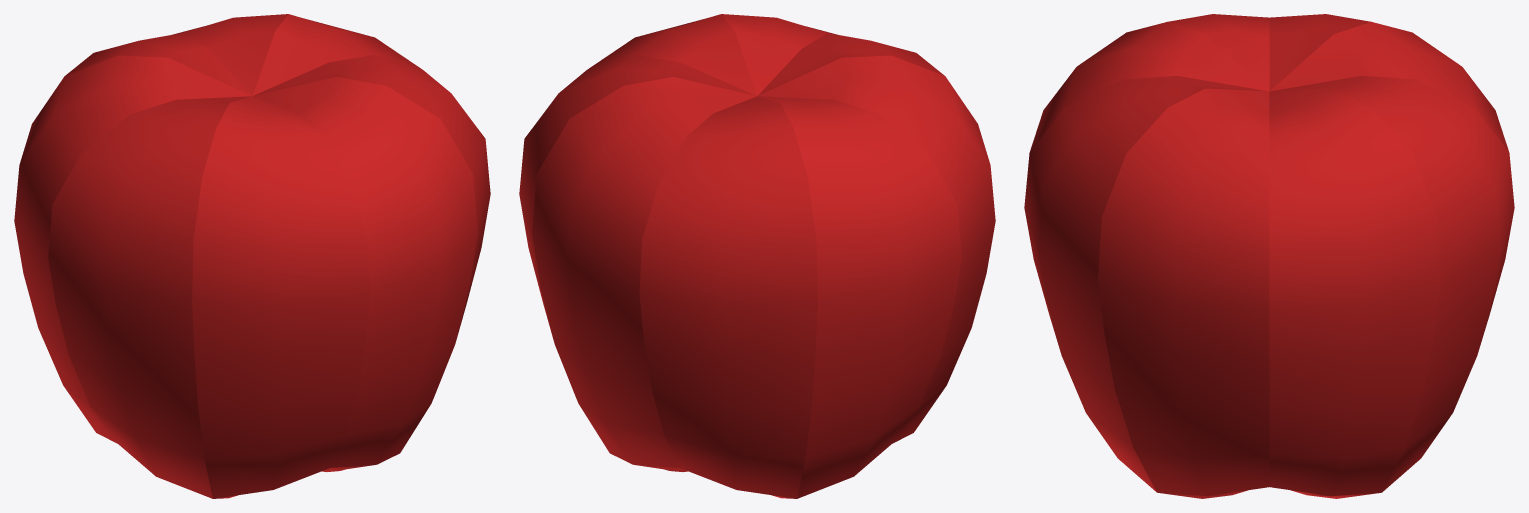
File: mesh_appleslices.fbx
The picture shows the model from 3 angles, left to right: view 1: azimuth 30°, elevation 25°; view 2: azimuth 150°, elevation 25°; view 3: azimuth 270°, elevation 25°; orthographic projection. The views are drawn at different scales.
Visible parts, largest first — view 1: mesh_appleslice1, mesh_appleslice2, mesh_appleslice8, mesh_appleslice3, mesh_appleslice7, mesh_appleslice6, mesh_appleslice5, mesh_appleslice4; view 2: mesh_appleslice4, mesh_appleslice3, mesh_appleslice5, mesh_appleslice2, mesh_appleslice6, mesh_appleslice7, mesh_appleslice8, mesh_appleslice1; view 3: mesh_appleslice6, mesh_appleslice7, mesh_appleslice5, mesh_appleslice8, mesh_appleslice1, mesh_appleslice4, mesh_appleslice2, mesh_appleslice3.
Part boxes in pixels (x1,y1,x2,y2): mesh_appleslice1: [192, 96, 370, 498]; mesh_appleslice2: [48, 96, 251, 498]; mesh_appleslice8: [253, 77, 477, 471]; mesh_appleslice3: [14, 55, 251, 443]; mesh_appleslice7: [253, 55, 490, 339]; mesh_appleslice6: [252, 14, 422, 95]; mesh_appleslice5: [173, 14, 287, 95]; mesh_appleslice4: [65, 33, 251, 95]; mesh_appleslice4: [639, 96, 817, 498]; mesh_appleslice3: [758, 96, 961, 498]; mesh_appleslice5: [532, 77, 756, 471]; mesh_appleslice2: [758, 55, 995, 443]; mesh_appleslice6: [519, 55, 756, 339]; mesh_appleslice7: [587, 14, 757, 95]; mesh_appleslice8: [722, 14, 836, 95]; mesh_appleslice1: [758, 33, 944, 95]; mesh_appleslice6: [1269, 88, 1440, 498]; mesh_appleslice7: [1098, 88, 1269, 498]; mesh_appleslice5: [1271, 76, 1514, 492]; mesh_appleslice8: [1024, 76, 1267, 492]; mesh_appleslice1: [1030, 22, 1268, 151]; mesh_appleslice4: [1270, 22, 1508, 151]; mesh_appleslice2: [1167, 14, 1269, 91]; mesh_appleslice3: [1269, 14, 1371, 90].
Bounding box in the file's own units: 0.246 × 0.2266 × 0.246.
